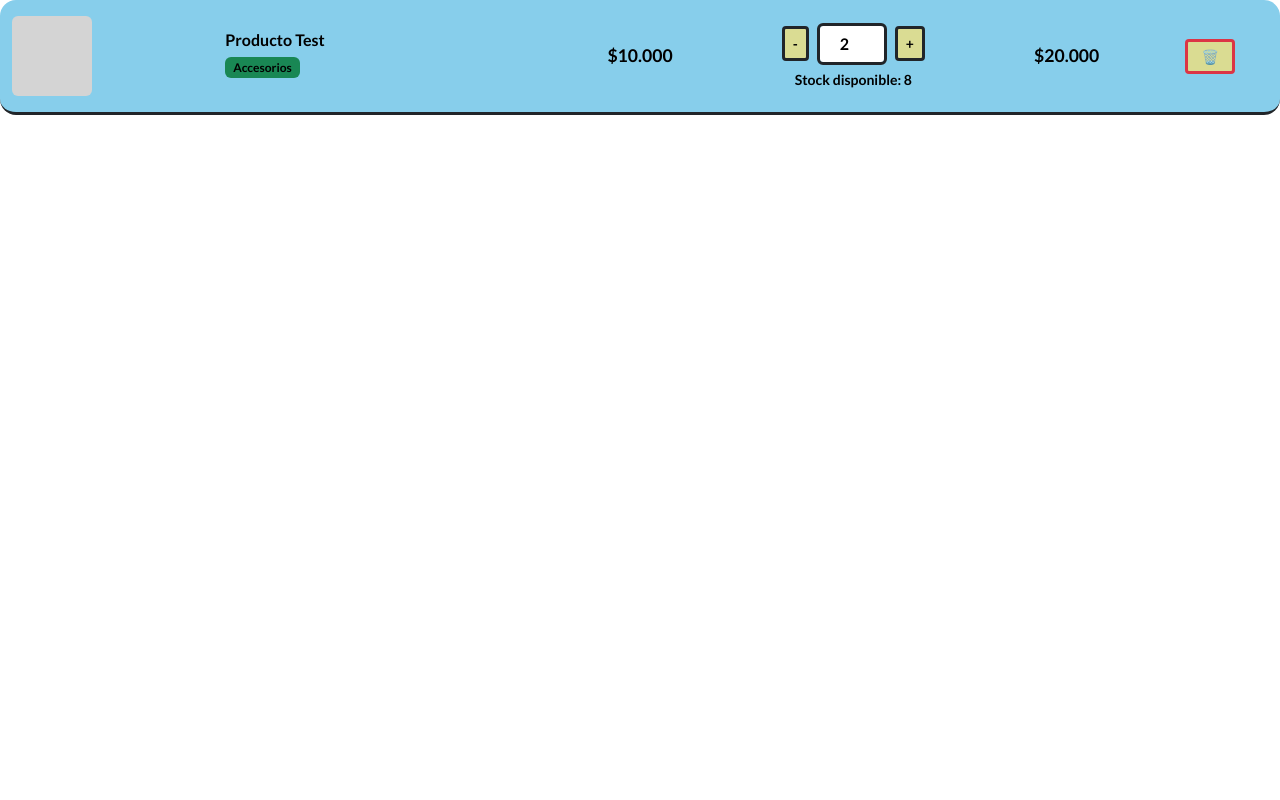
CartItem › should show delete confirmation modal when remove button is clicked
Click the button titled "Eliminar producto" at (1210, 56), box [1185,38,1235,74]
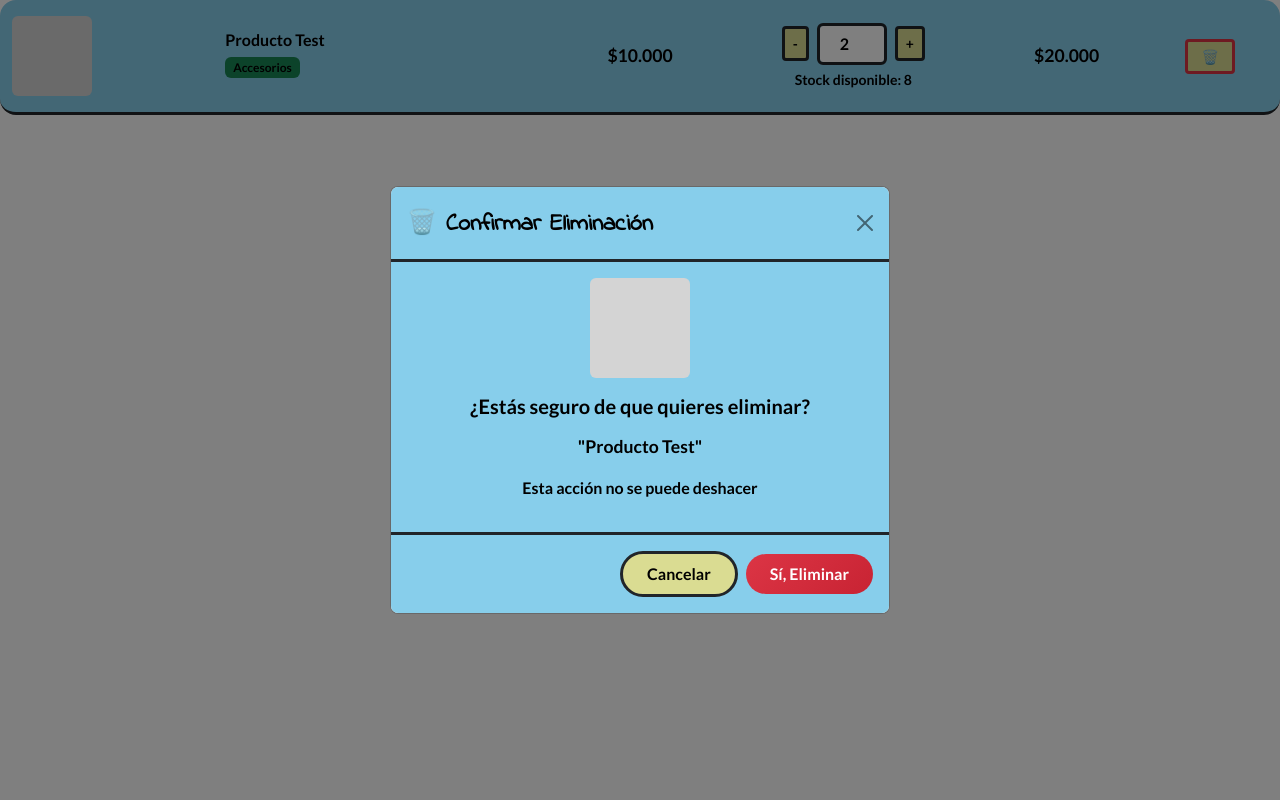
Check: the dialog is shown, box [390,186,890,614]
Check: the heading "¿Estás seguro de que quieres eliminar?" is shown, box [470,394,810,418]
Check: the text "\"Producto Test\"" is shown, box [578,436,702,457]
